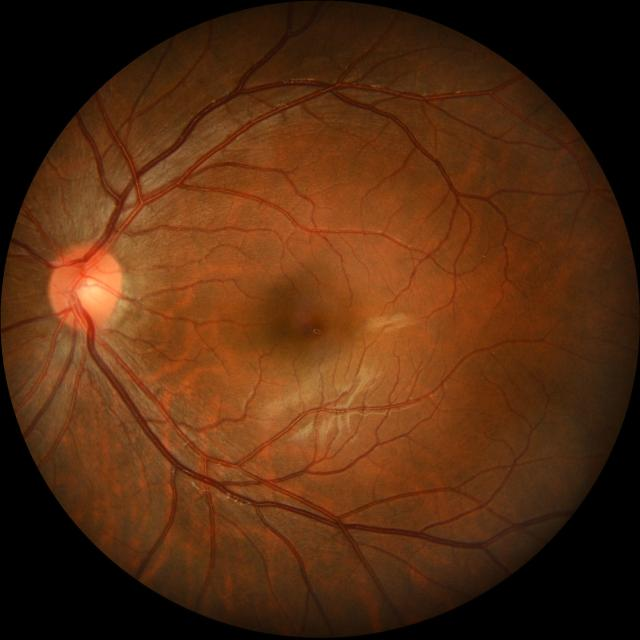OC: (73, 277, 105, 312)
OD: (48, 244, 122, 329)
